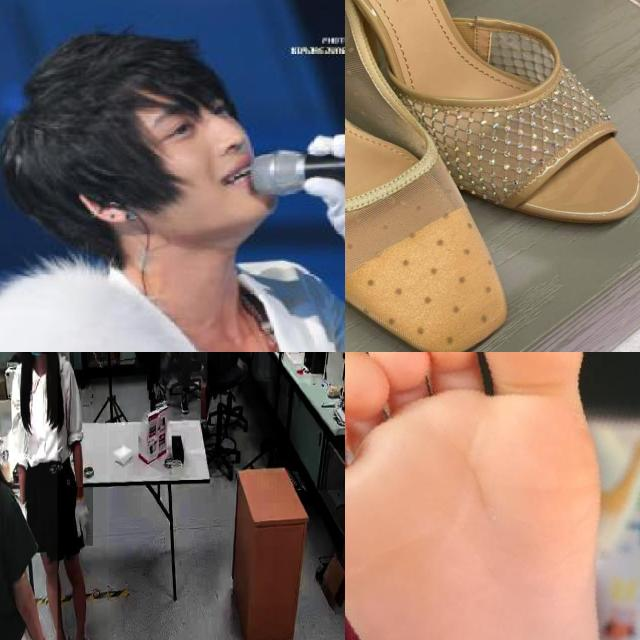Barefoots: (345, 352, 627, 640)
Sandals: (345, 0, 640, 242), (345, 0, 523, 352)
face_nomask: (132, 84, 286, 219)
hand_glove: (303, 126, 345, 262), (75, 487, 93, 547)
hand_noglove: (244, 352, 253, 359)
head_nohelmet: (2, 28, 230, 113)
person: (0, 16, 345, 352), (0, 352, 106, 640), (0, 352, 58, 640), (160, 352, 207, 388), (220, 352, 271, 382)
shoes: (177, 388, 193, 418)
